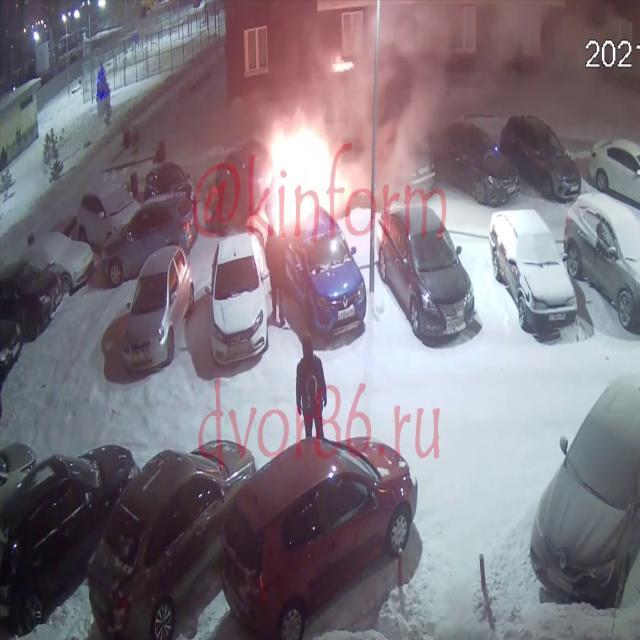Fire: (249, 116, 356, 226)
Smoke: (306, 0, 534, 186)
